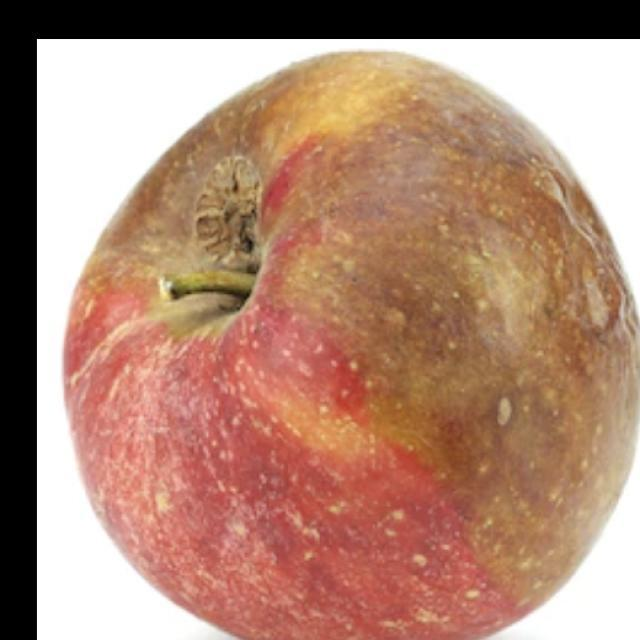Rotten: (76, 43, 636, 640)
